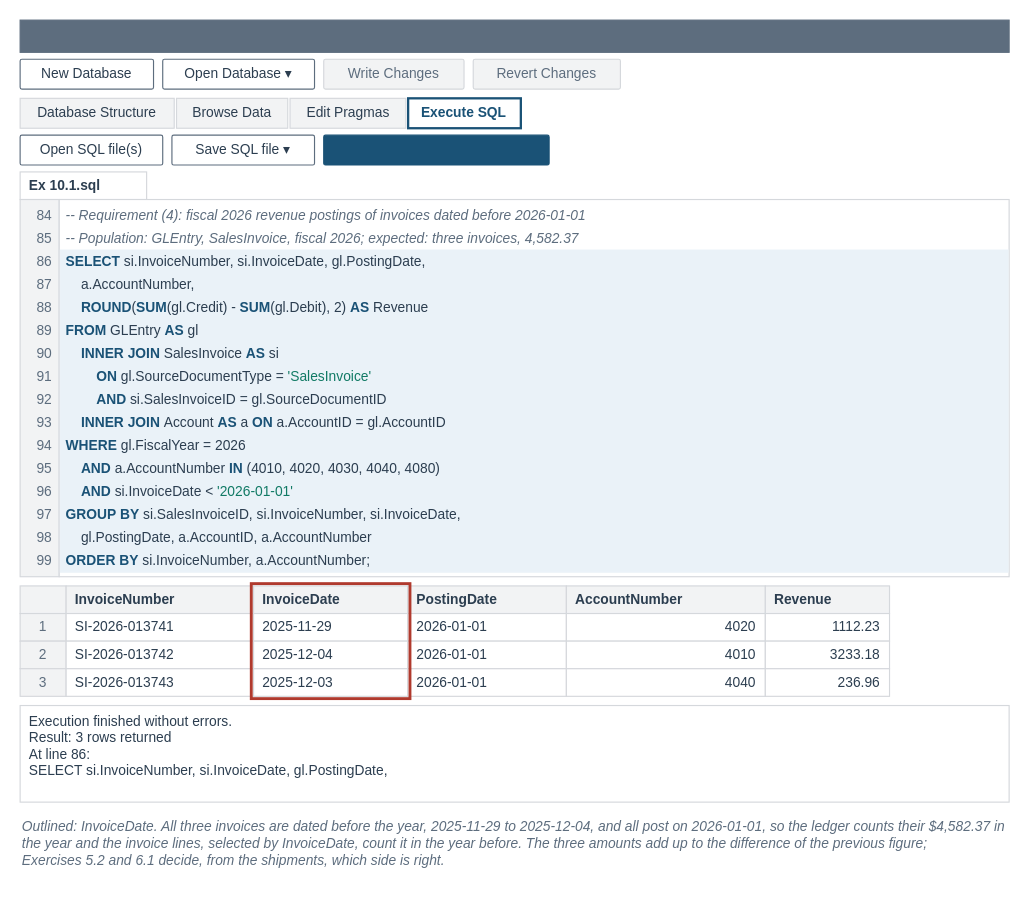
Image size: 1029x899. Some labels were removed from this diagram. Here are the shapes that lost their labels. From the top down, the centre of each, then its label:
At point 514,35: "DB Browser for SQLite - C:\Users\you\Documents\CharlesRiver_Work.sqlite".
At point 436,149: "▶ Execute all/selected SQL".
